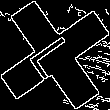L_NE: (25, 28, 85, 82)
